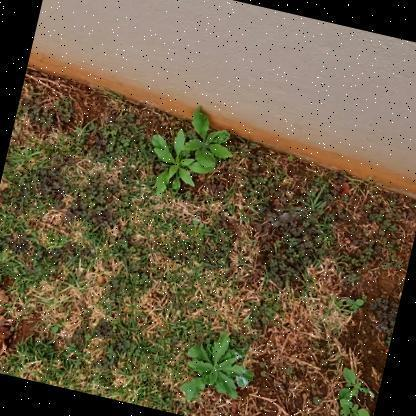Weeds: (177, 324, 264, 412), (139, 124, 221, 207), (181, 105, 243, 172), (336, 362, 374, 405), (337, 397, 373, 415), (345, 294, 366, 317)
